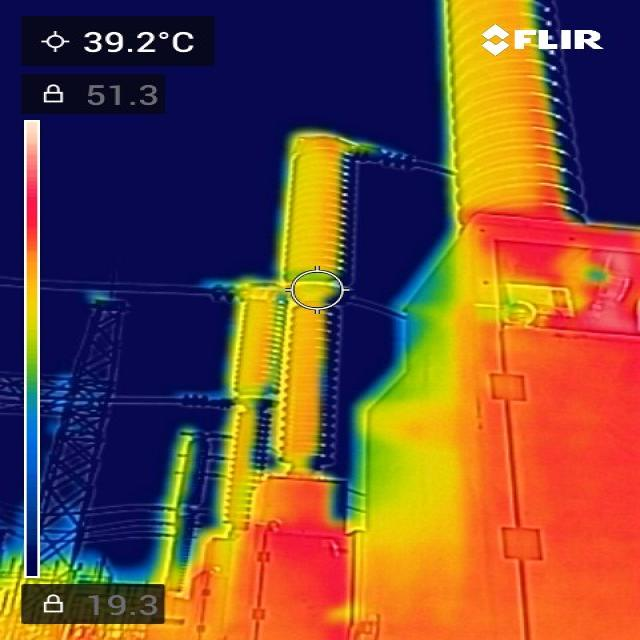Zona_Atenco: (364, 342, 632, 635), (266, 481, 330, 526)
Zona_Critica: (482, 217, 639, 450), (263, 532, 348, 606)
